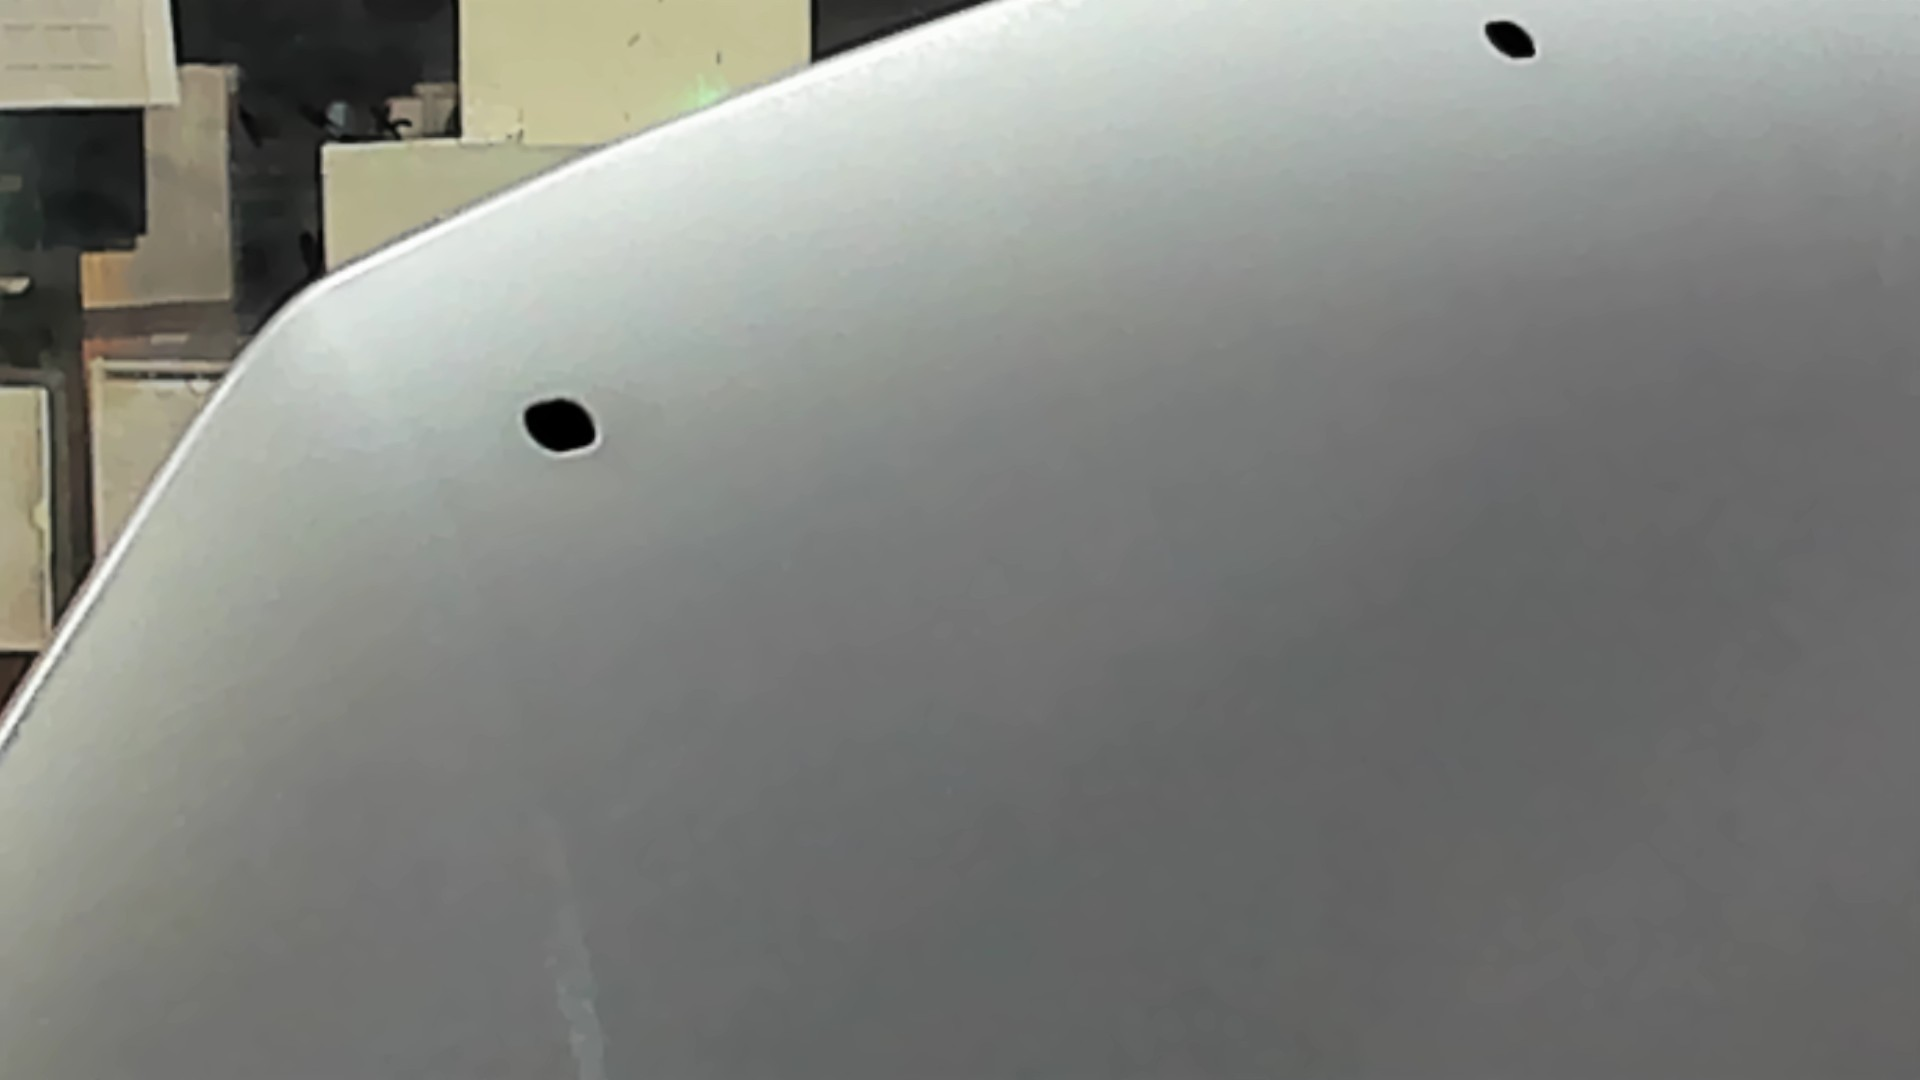chico: (509, 392, 611, 462), (1478, 8, 1545, 87)
